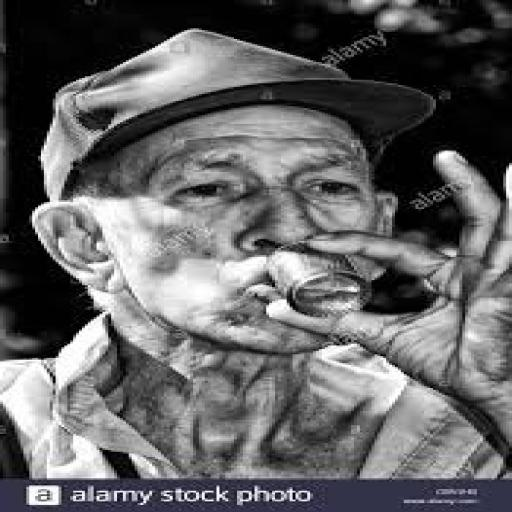drinking: (0, 52, 371, 319)
